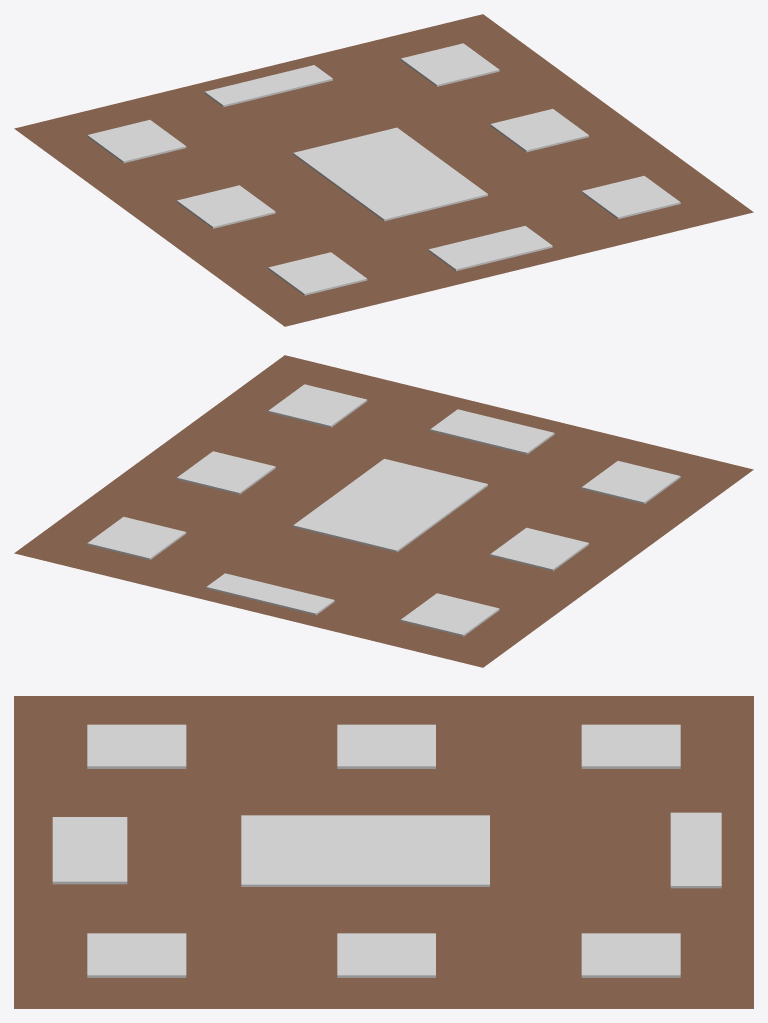
Rendered from museum.glb.
3 views of the same model, one above another, from view 1: azimuth 30°, elevation 25°; view 2: azimuth 150°, elevation 25°; view 3: azimuth 270°, elevation 25° (orthographic). The views are drawn at different scales.
Parts seen in each view (by area): view 1: Plano, Faroles; view 2: Plano, Faroles; view 3: Plano, Faroles.
Boxes of the visible parts, x1,y1,x2,y2 form: Plano: [14, 14, 753, 326]; Faroles: [87, 43, 680, 295]; Plano: [14, 355, 753, 667]; Faroles: [87, 384, 680, 636]; Plano: [14, 696, 753, 1008]; Faroles: [52, 724, 721, 977].
Bounding box in the file's own units: 55.83 × 1.03 × 55.83.
